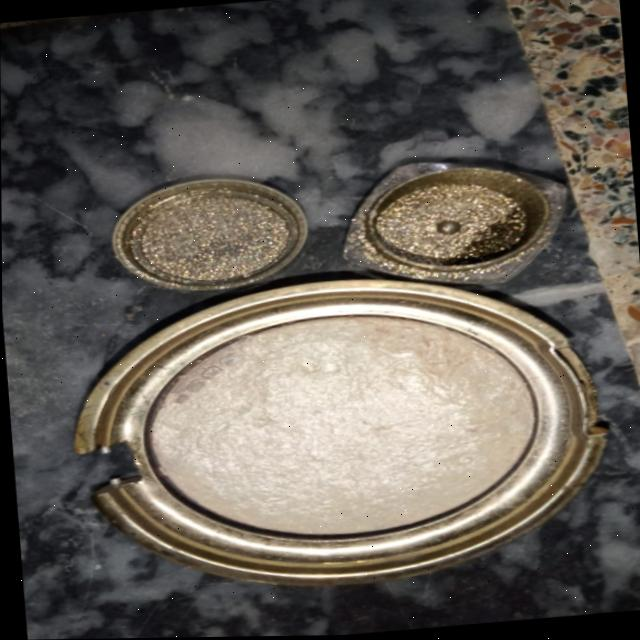highlighter: (52, 264, 590, 614), (346, 138, 586, 286), (86, 161, 323, 302)
